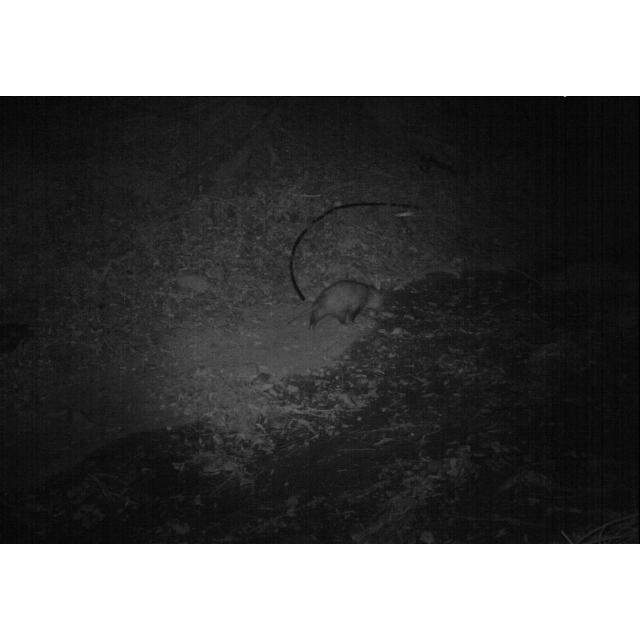animals: (279, 279, 391, 325)
